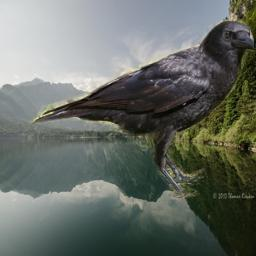Crow: (26, 19, 254, 200)
